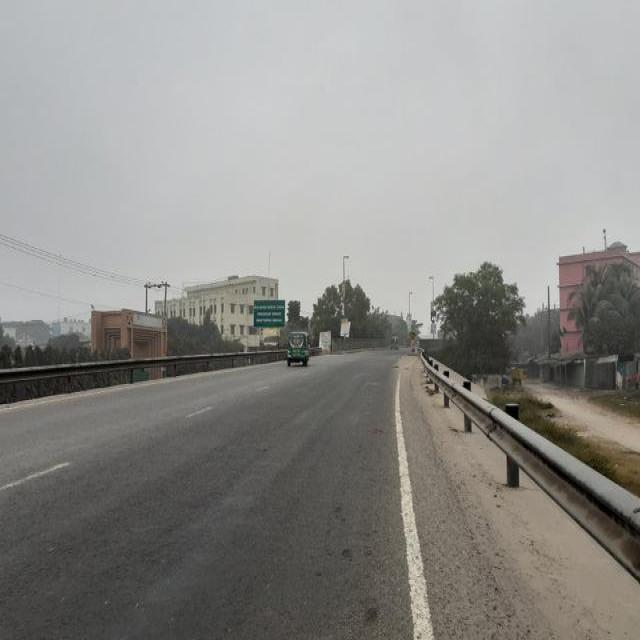three wheelers -CNG-: (286, 329, 310, 364), (388, 334, 398, 349)
